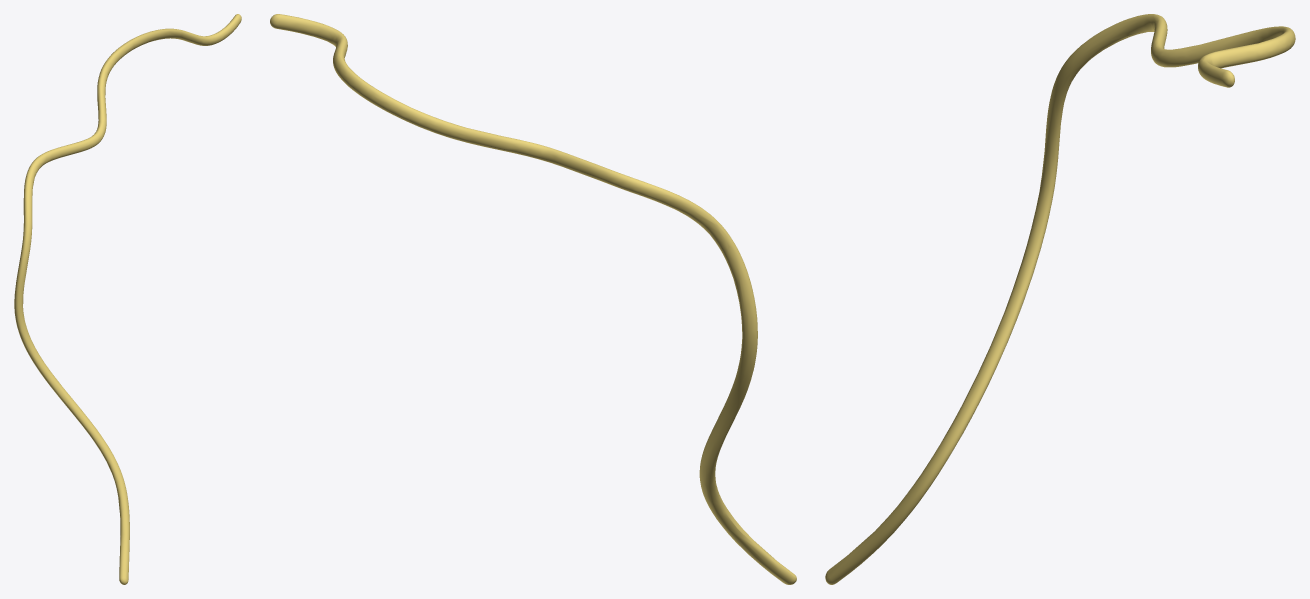
The model's file is Trunk of right facial nerve.fbx.
3 views of the same model, side by side, from view 1: azimuth 30°, elevation 25°; view 2: azimuth 150°, elevation 25°; view 3: azimuth 270°, elevation 25° (orthographic). The views are drawn at different scales.
Parts seen in each view (by area): view 1: Trunk of right facial nerve; view 2: Trunk of right facial nerve; view 3: Trunk of right facial nerve.
Part boxes in pixels (x1,y1,x2,y2): Trunk of right facial nerve: (14,14,241,584); Trunk of right facial nerve: (270,14,796,584); Trunk of right facial nerve: (825,14,1295,584).
Size of the model in its own units: 5.47 by 7.9 by 4.8.
